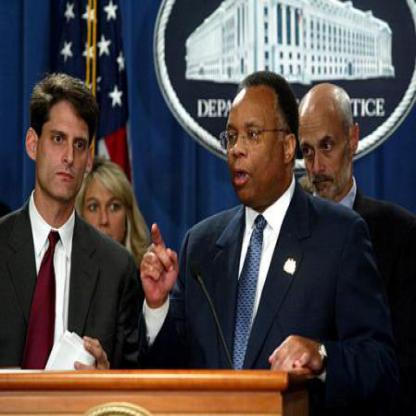face: (223, 78, 288, 206), (37, 84, 96, 203), (297, 89, 354, 206), (83, 166, 129, 257)
